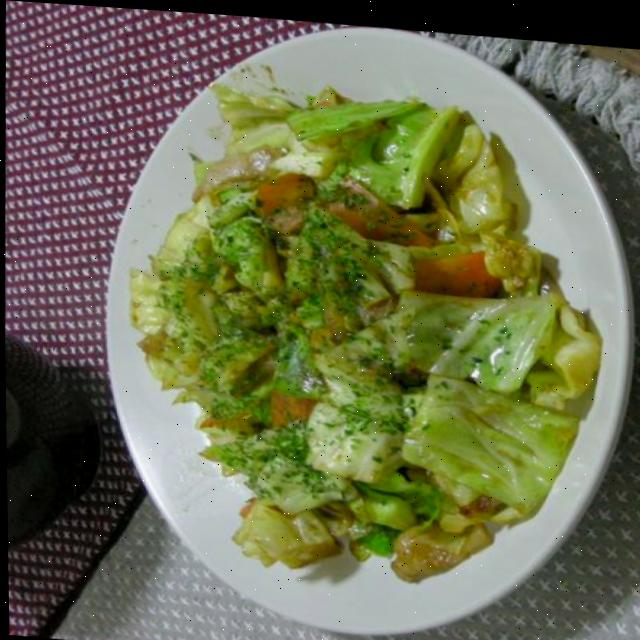蔬菜料理: (68, 27, 609, 614)
